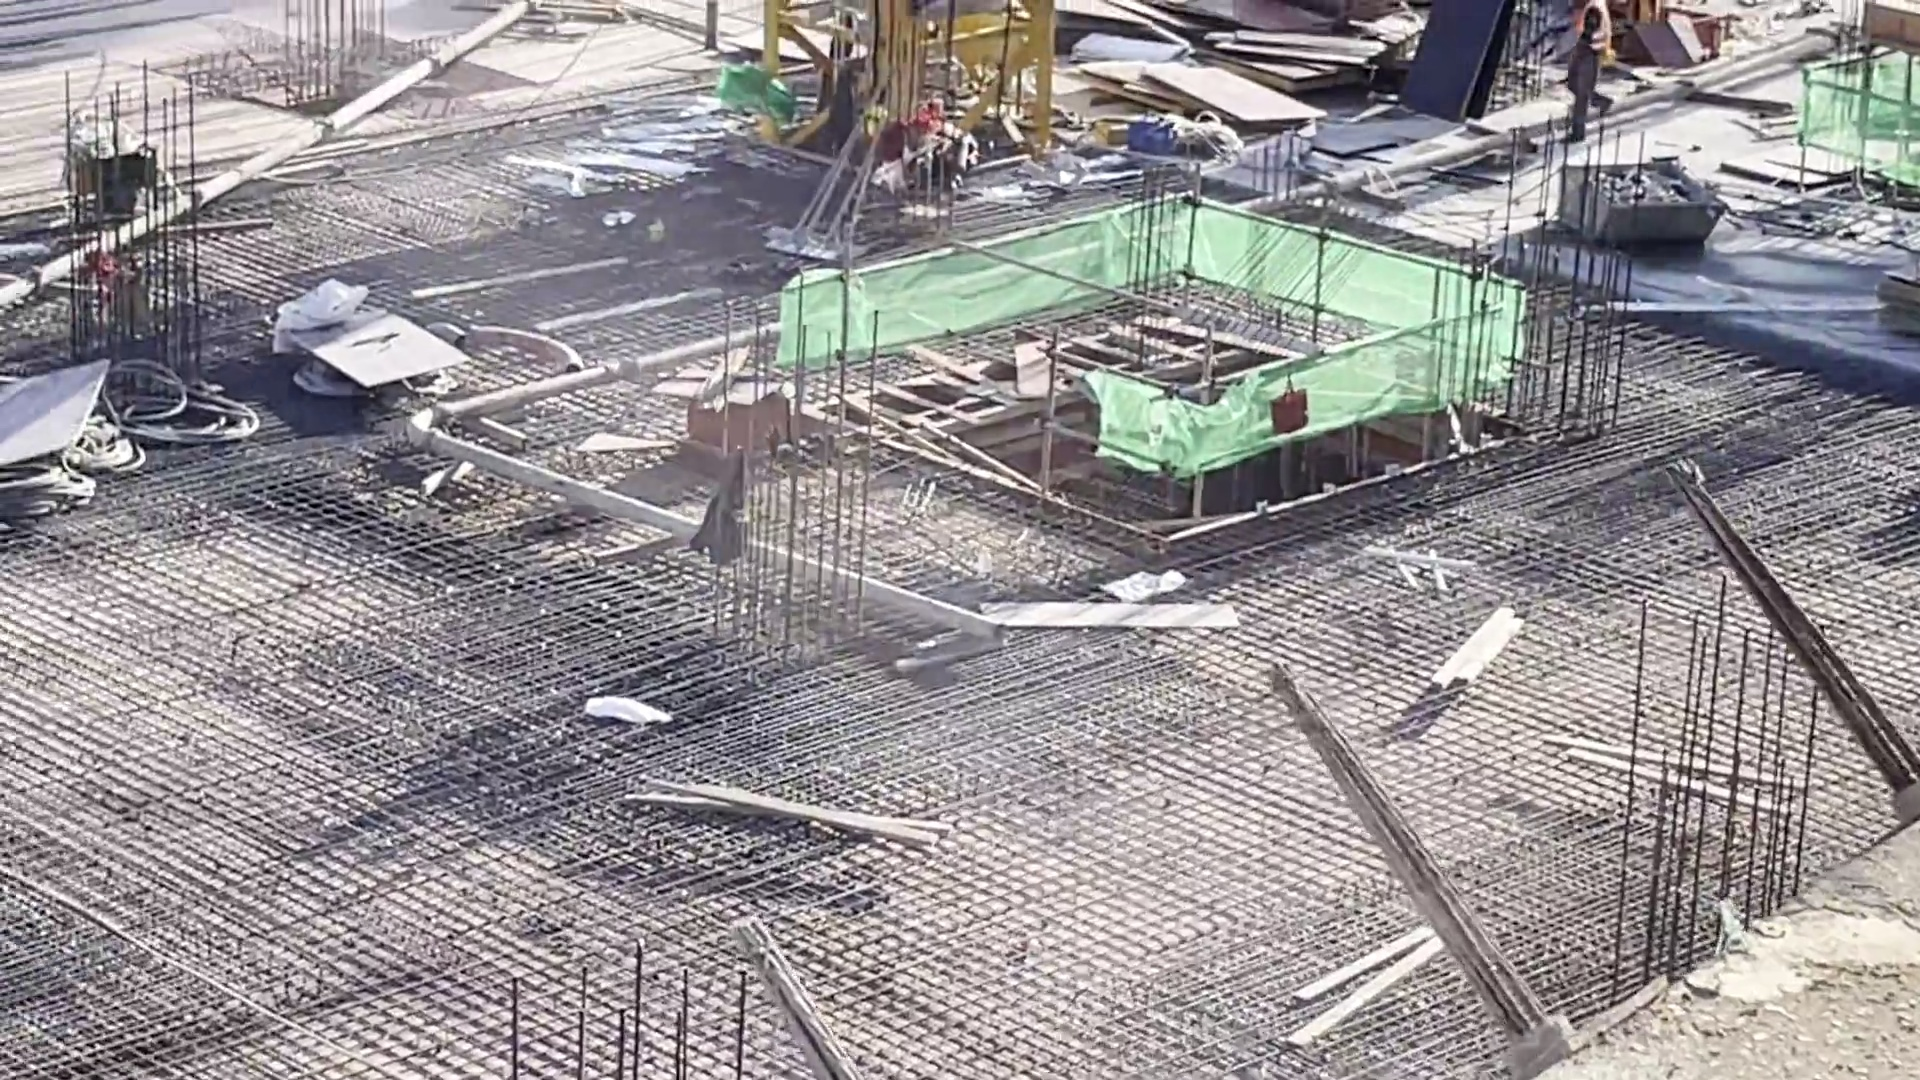board: (1879, 272, 1920, 325)
hopper: (1565, 155, 1703, 246)
person: (1547, 1, 1620, 144)
vest: (1575, 7, 1611, 63)
